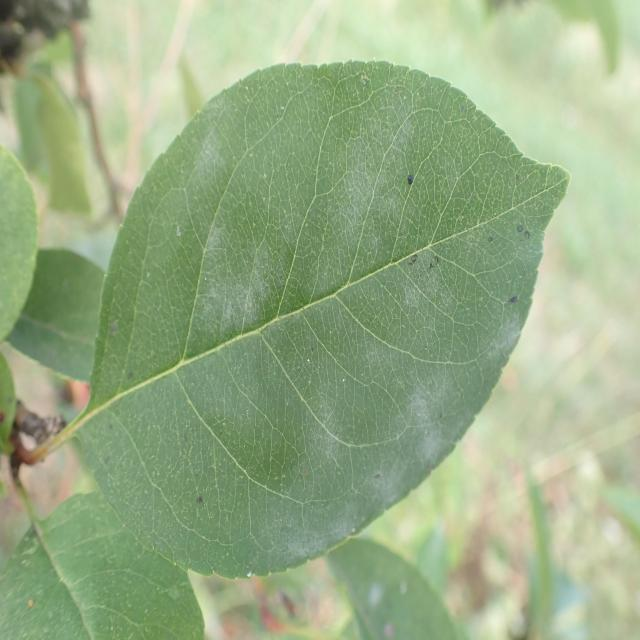Powdery_mildew: (117, 55, 551, 576)
